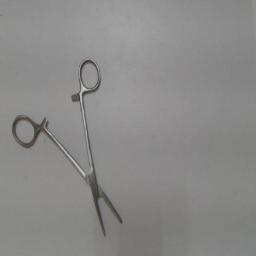Mayo Needle Holder: (10, 54, 130, 248)
